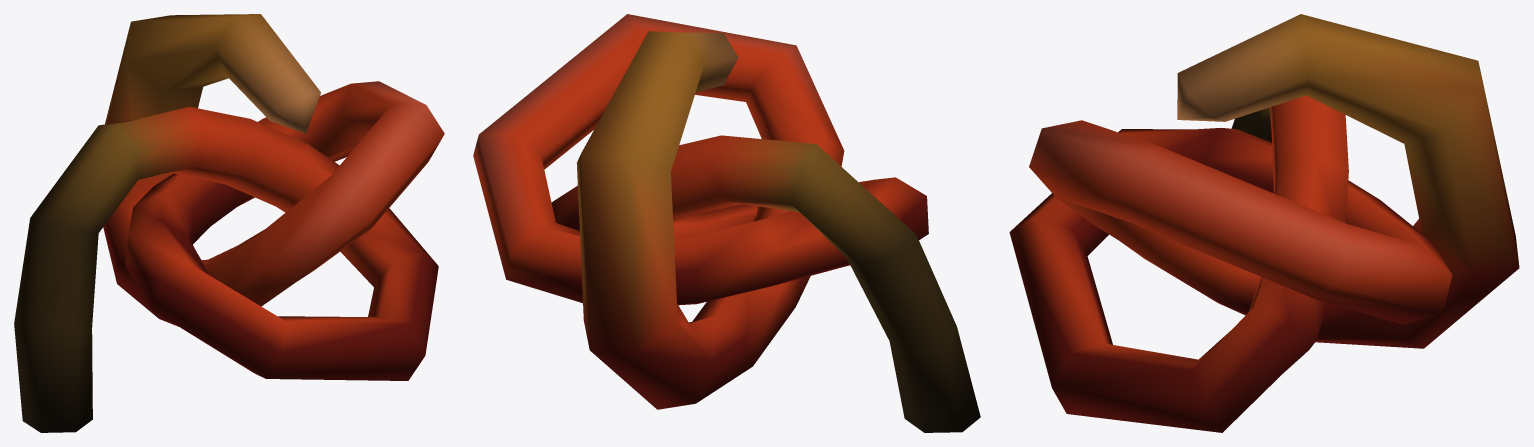
Rendered from Alien_Root04.fbx.
3 views of the same model, side by side, from view 1: azimuth 30°, elevation 25°; view 2: azimuth 150°, elevation 25°; view 3: azimuth 270°, elevation 25° (orthographic). The views are drawn at different scales.
Parts seen in each view (by area): view 1: Alien_Root04; view 2: Alien_Root04; view 3: Alien_Root04.
Boxes of the visible parts, x1=… form: Alien_Root04: x1=14, y1=14, x2=444, y2=432; Alien_Root04: x1=473, y1=14, x2=980, y2=432; Alien_Root04: x1=1009, y1=14, x2=1519, y2=432.
Bounding box in the file's own units: 2104 × 1602 × 1935.
